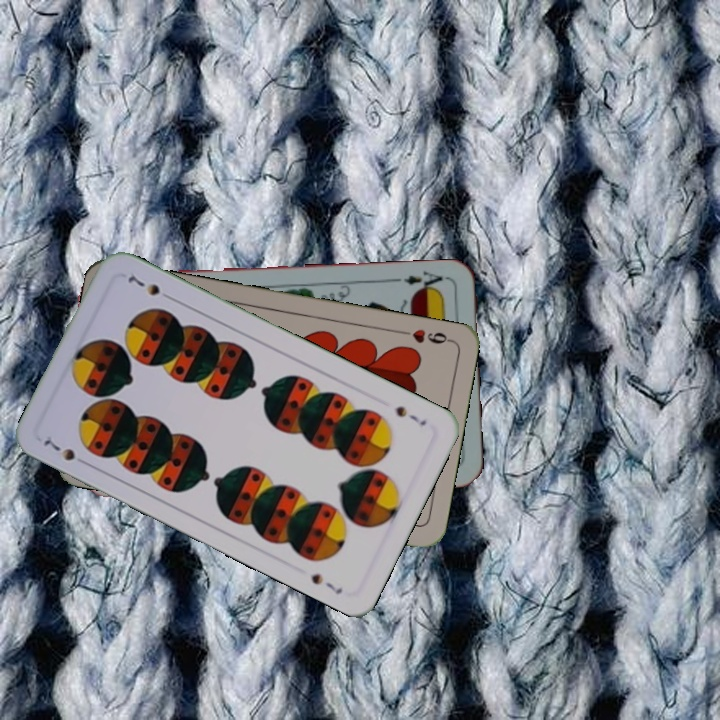EA: (400, 267, 450, 294)
H9: (395, 325, 454, 347)
S7: (40, 433, 92, 469), (391, 401, 429, 429)
